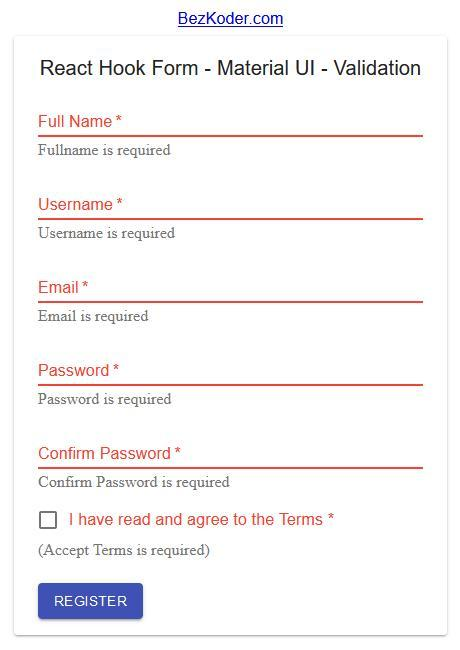button: (39, 584, 144, 622)
checkbox: (40, 512, 59, 531)
label: (66, 510, 340, 531)
